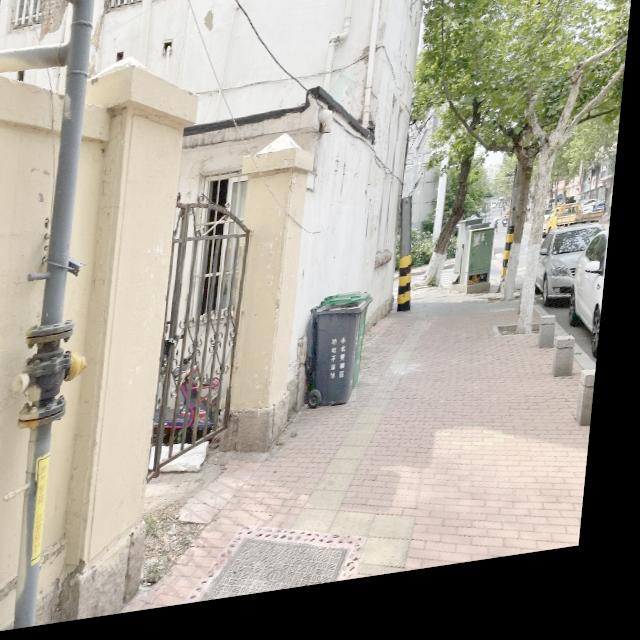garbage_bin: (306, 309, 373, 420)
